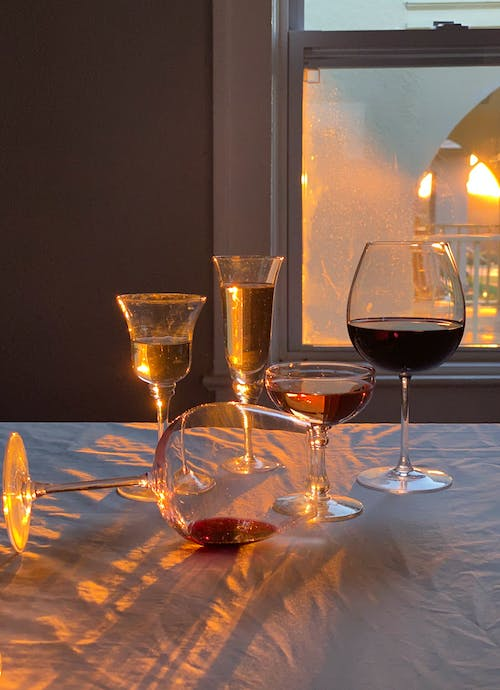alcohol: (0, 398, 319, 556), (345, 238, 467, 497), (113, 290, 207, 503), (262, 360, 376, 524), (209, 252, 284, 477)
